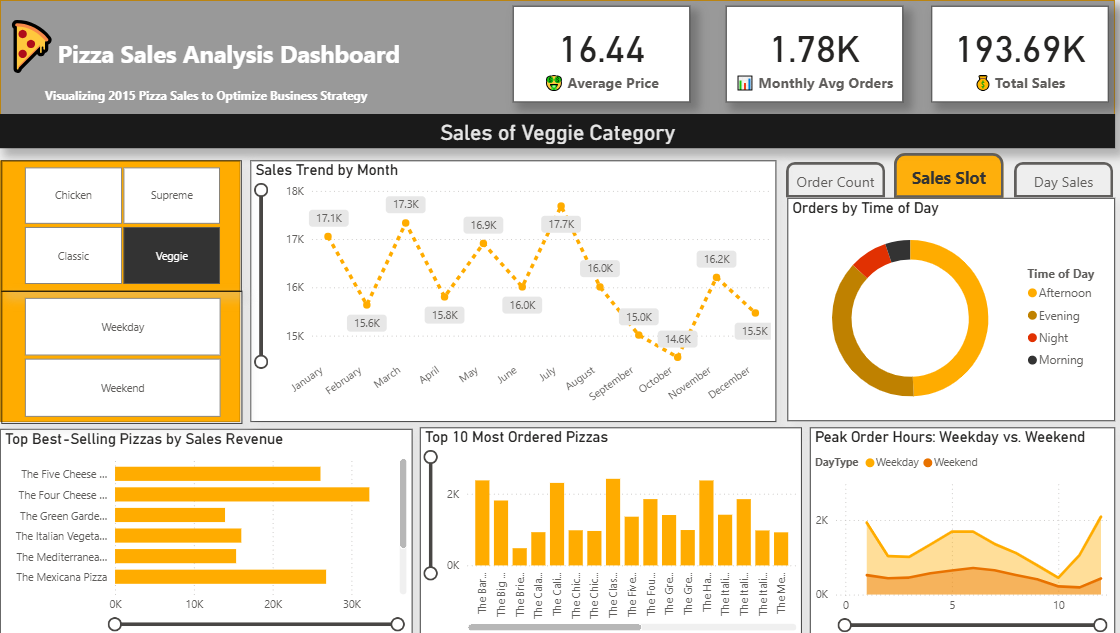

Layout of this report page (visuals, bound fields, positions):
{"tool":"powerbi","page":{"name":"Pizza_Dashboard","canvas":[1280,720],"ordinal":0},"visuals":[{"type":"shape","title":"HeaderShape","box":[7.5,0,1259.7,167.2],"z":500},{"type":"card","fields":{"Values":["HomeOfAllMeasures.SelectedPizzaSales"]},"box":[1059.7,6,200,109],"z":1000},{"type":"card","fields":{"Values":["order_details.MonthlyAvgOrders"]},"box":[826.9,6,200,109],"z":2000},{"type":"card","fields":{"Values":["order_details.AveragePrice"]},"box":[586.6,6,200,109],"z":3000},{"type":"lineChart","title":"Sales Trend by Month","fields":{"Category":["orders.date.Variation.Date Hierarchy.Month"],"Y":["KPI.value"]},"box":[289.7,180.6,594,295.5],"z":4000},{"type":"donutChart","title":"Orders by Time of Day","fields":{"Category":["orders.Time of Day"],"Y":["KPI.SelectedPizzaSales"]},"box":[897,223.9,370.1,252.2],"z":5000},{"type":"actionButton","box":[1152.2,183.6,111.9,40.3],"z":8000},{"type":"actionButton","box":[895.5,183.6,111.9,40.3],"z":10000},{"type":"actionButton","title":"BB_cs","box":[1016.4,173.1,123.9,50.7],"z":12000},{"type":"barChart","title":"Top Best-Selling Pizzas by Sales Revenue","fields":{"Category":["pizza_types.name"],"Y":["KPI.SelectedPizzaSales"]},"box":[7.5,484.6,465.7,232.8],"z":14000},{"type":"clusteredColumnChart","title":"Top 10 Most Ordered Pizzas","fields":{"Y":["order_details.OrderCountbyPizza"],"Category":["pizza_types.name"]},"box":[482.1,483.1,431.3,235.8],"z":15000},{"type":"areaChart","title":"Peak Order Hours: Weekday vs. Weekend","fields":{"Category":["orders.Hour12"],"Series":["orders.DayType"],"Y":["orders.Order_count"]},"box":[922.4,483.6,344.8,235.8],"z":16000},{"type":"shape","box":[7.5,180.6,271.6,295.5],"z":17000},{"type":"slicer","fields":{"Values":["KPI.KPI"]},"box":[9,180.6,271.6,147.8],"z":18000},{"type":"slicer","fields":{"Values":["orders.DayType"]},"box":[9,329,272,150],"z":19000},{"type":"card","fields":{"Values":["KPI.ReportTitle"]},"box":[7.5,128.4,1259.7,38.8],"z":20000},{"type":"textbox","box":[9,9,494,119.4],"z":21000}]}

Visuals, with their boxes in screenshot pixels (x1, y1, x2, y2), scaled from the page's 1280x720 canvas onto the 1120x633 screenshot:
"HeaderShape" shape: crop(7, 0, 1109, 147)
card - HomeOfAllMeasures.SelectedPizzaSales: crop(927, 5, 1102, 101)
card - order_details.MonthlyAvgOrders: crop(724, 5, 899, 101)
card - order_details.AveragePrice: crop(513, 5, 688, 101)
"Sales Trend by Month" lineChart: crop(253, 159, 773, 419)
"Orders by Time of Day" donutChart: crop(785, 197, 1109, 419)
actionButton: crop(1008, 161, 1106, 197)
actionButton: crop(784, 161, 881, 197)
"BB_cs" actionButton: crop(889, 152, 998, 197)
"Top Best-Selling Pizzas by Sales Revenue" barChart: crop(7, 426, 414, 631)
"Top 10 Most Ordered Pizzas" clusteredColumnChart: crop(422, 425, 799, 632)
"Peak Order Hours: Weekday vs. Weekend" areaChart: crop(807, 425, 1109, 632)
shape: crop(7, 159, 244, 419)
slicer - KPI.KPI: crop(8, 159, 246, 289)
slicer - orders.DayType: crop(8, 289, 246, 421)
card - KPI.ReportTitle: crop(7, 113, 1109, 147)
textbox: crop(8, 8, 440, 113)
